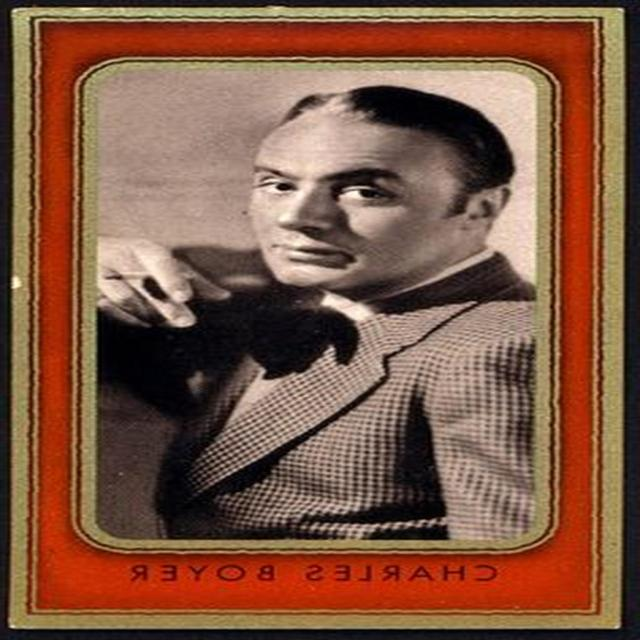smoking: (96, 84, 541, 542)
